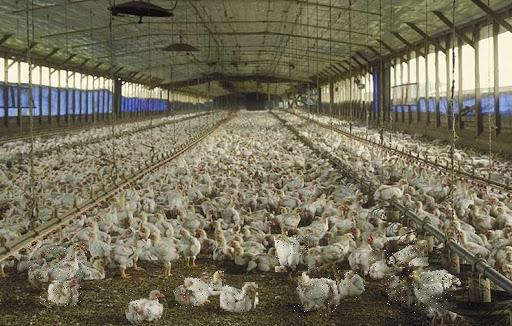chicken: (294, 266, 344, 318), (29, 243, 89, 285), (411, 266, 456, 314), (126, 291, 170, 323), (174, 271, 209, 309), (368, 249, 410, 279), (275, 236, 308, 274), (221, 281, 258, 313), (387, 240, 429, 268), (41, 280, 83, 308), (382, 276, 415, 306), (183, 269, 224, 291), (339, 269, 367, 300)
